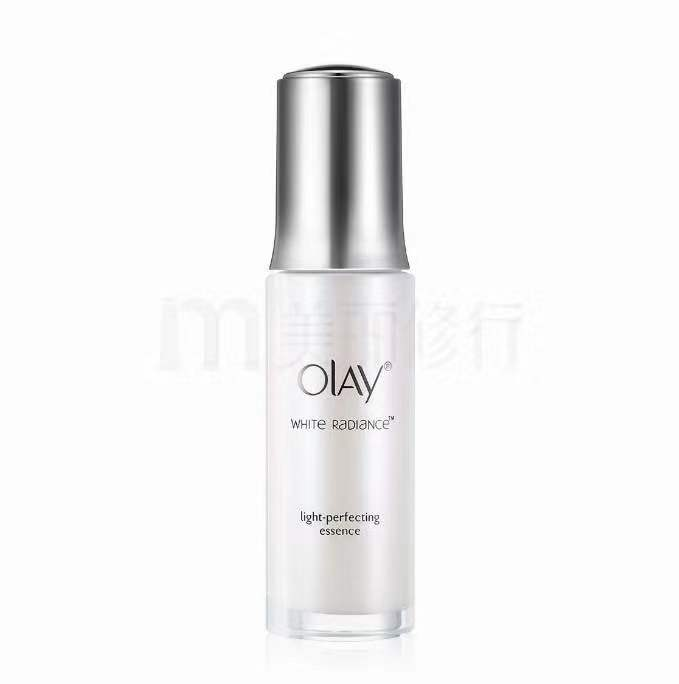cosmetic: (266, 63, 412, 630)
